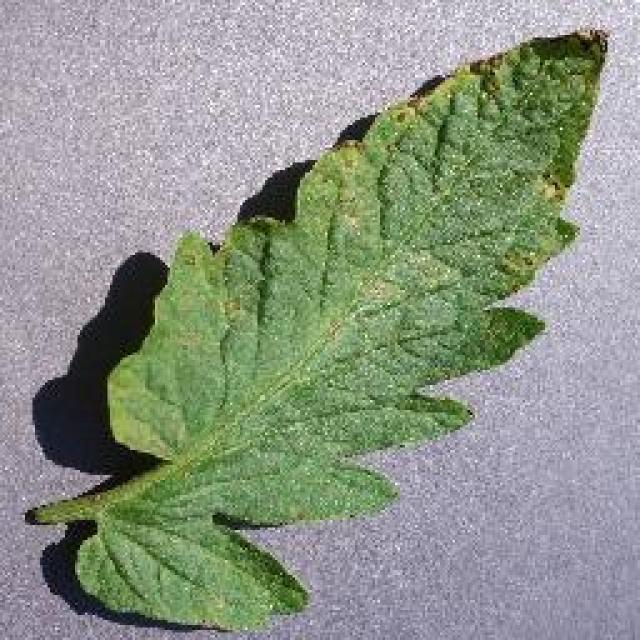Tomato target spot leaf: (34, 30, 608, 630)
